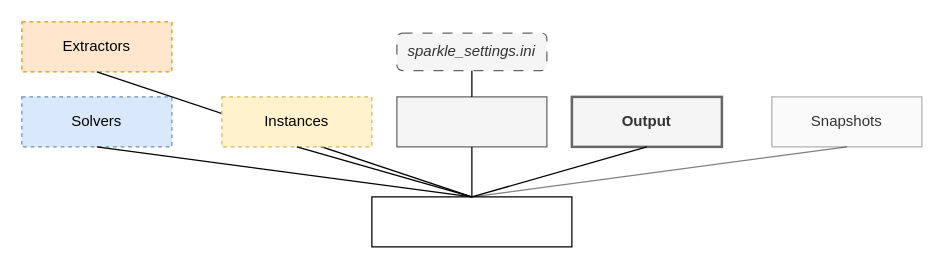
The diagram is 944 pixels wide and 269 high, and some of its shapes have lost their labels. The shapes that lost their labels are listed below. From the top down, each one's box as (x1, y1, x2, y2) in pixels, then its label:
(396, 96, 547, 147): Settings
(371, 196, 572, 247): .../my_directory
